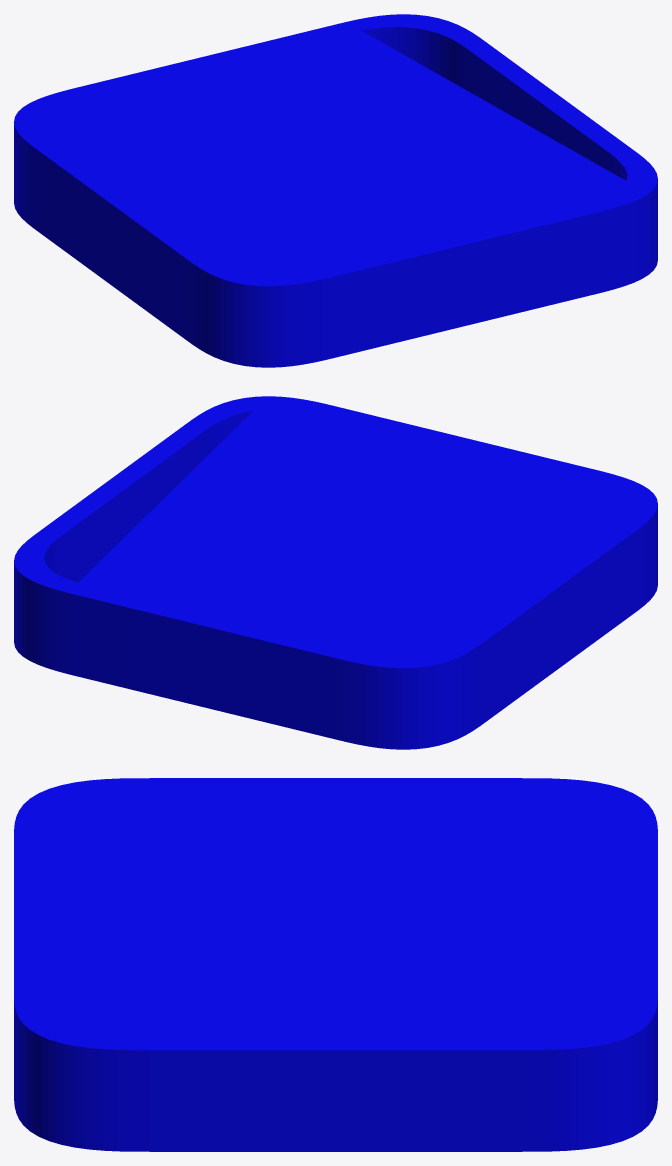
The model's file is ChainLink.fbx.
3 renders of one model, top to bottom at view 1: azimuth 30°, elevation 25°; view 2: azimuth 150°, elevation 25°; view 3: azimuth 270°, elevation 25°, orthographic. The views are drawn at different scales.
Visible parts, largest first — view 1: Cube.001; view 2: Cube.001; view 3: Cube.001.
Part boxes in pixels (x1,y1,x2,y2): Cube.001: (14, 14, 657, 367); Cube.001: (14, 396, 657, 749); Cube.001: (14, 778, 657, 1151).
Size of the model in its own units: 115 by 20 by 115.
